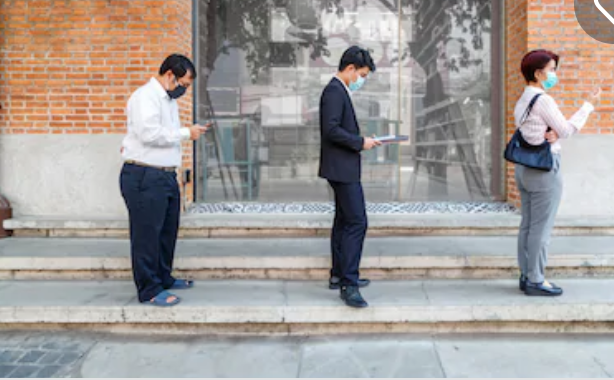Good: (321, 43, 603, 305), (121, 49, 377, 305)
